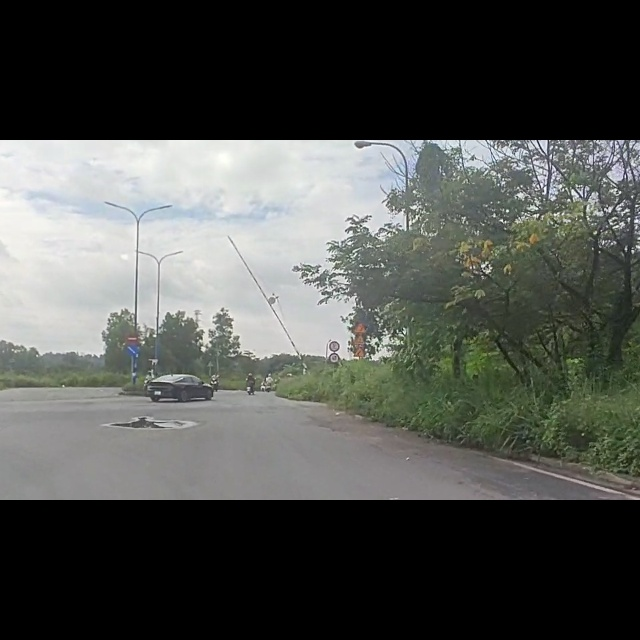bien_chi_dan: (125, 340, 140, 364), (328, 375, 343, 397), (127, 361, 139, 384), (353, 367, 366, 386)
